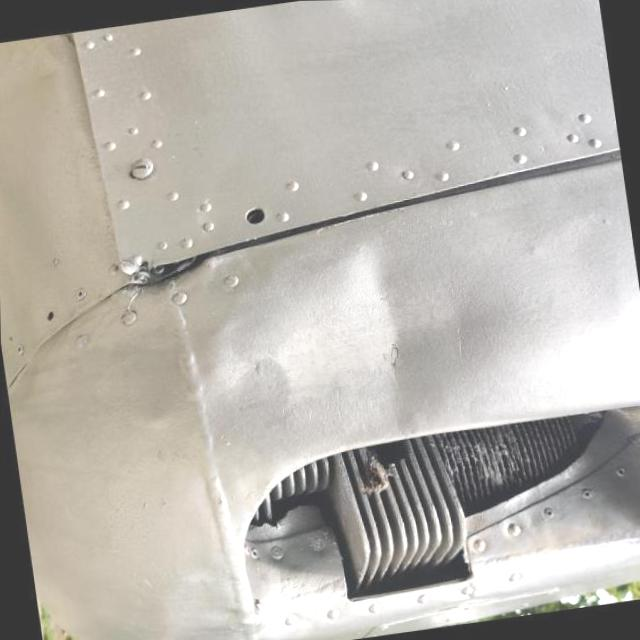Missing Fastener: (40, 302, 66, 327), (242, 206, 262, 222)
dent: (314, 234, 508, 421)
